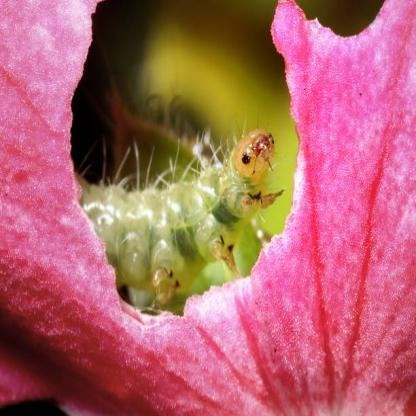sawfly: (71, 126, 289, 311)
